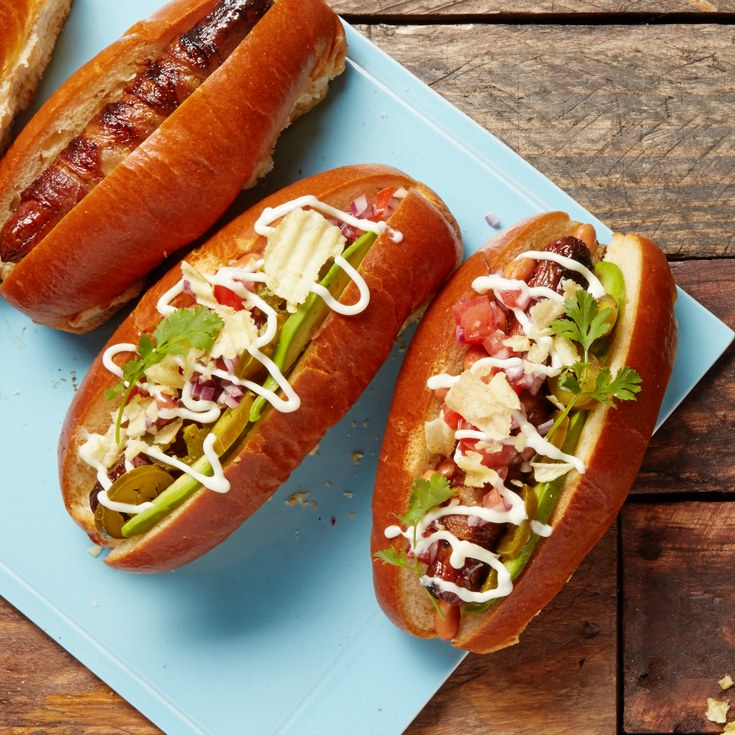hamburger_buns: (366, 175, 686, 668)
